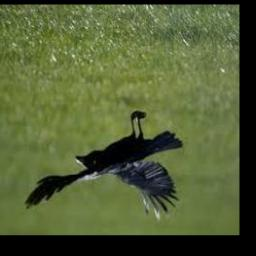Crow: (25, 111, 184, 225)
